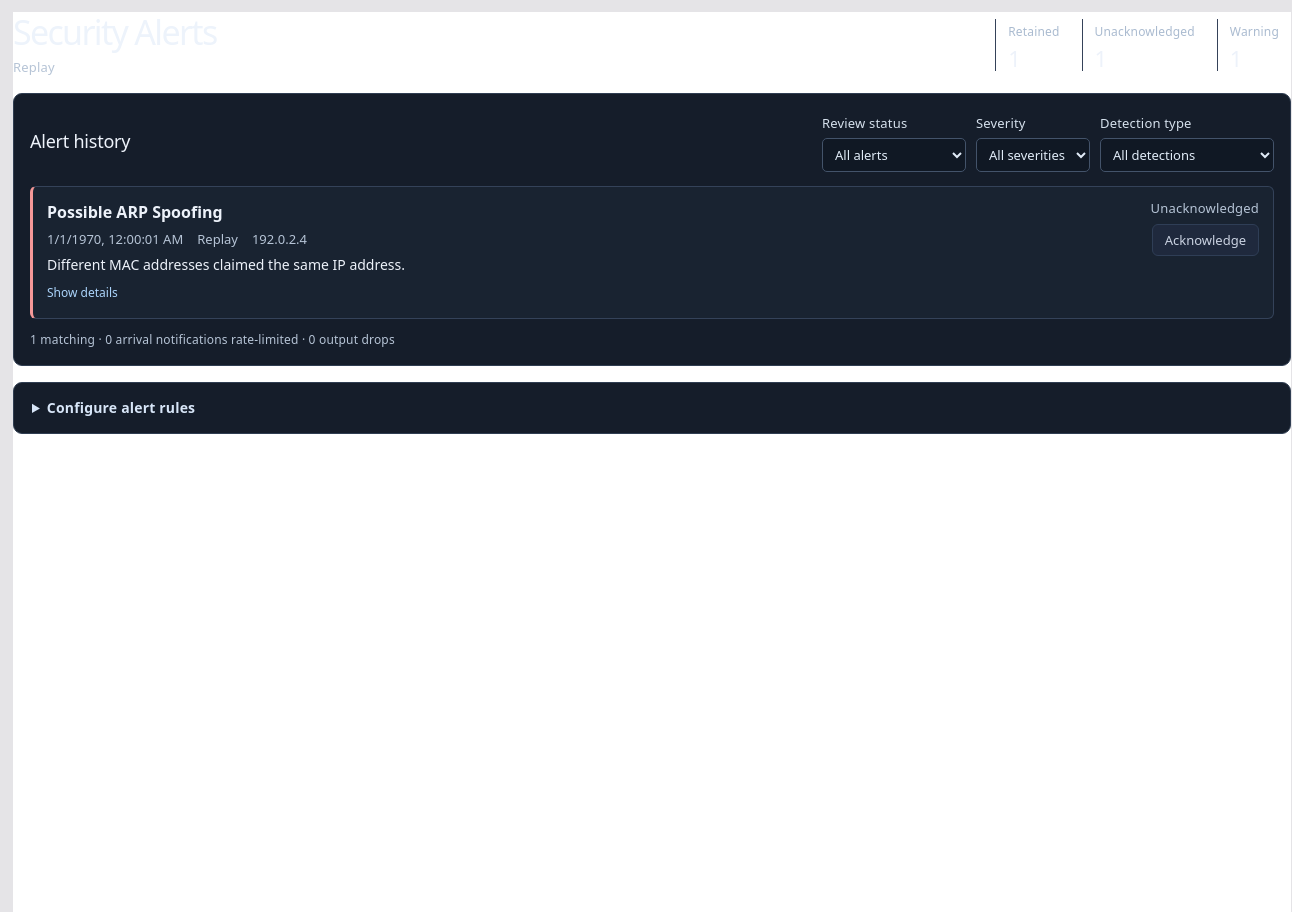
presents Critical with full expandable evidence
Expected: the text "Possible ARP Spoofing" is shown, [47,199,223,226]
Expected: the text "Critical" is not shown
Click the button that starts with "Possible ARP Spoofing" at (135, 212), box [47,199,1137,306]
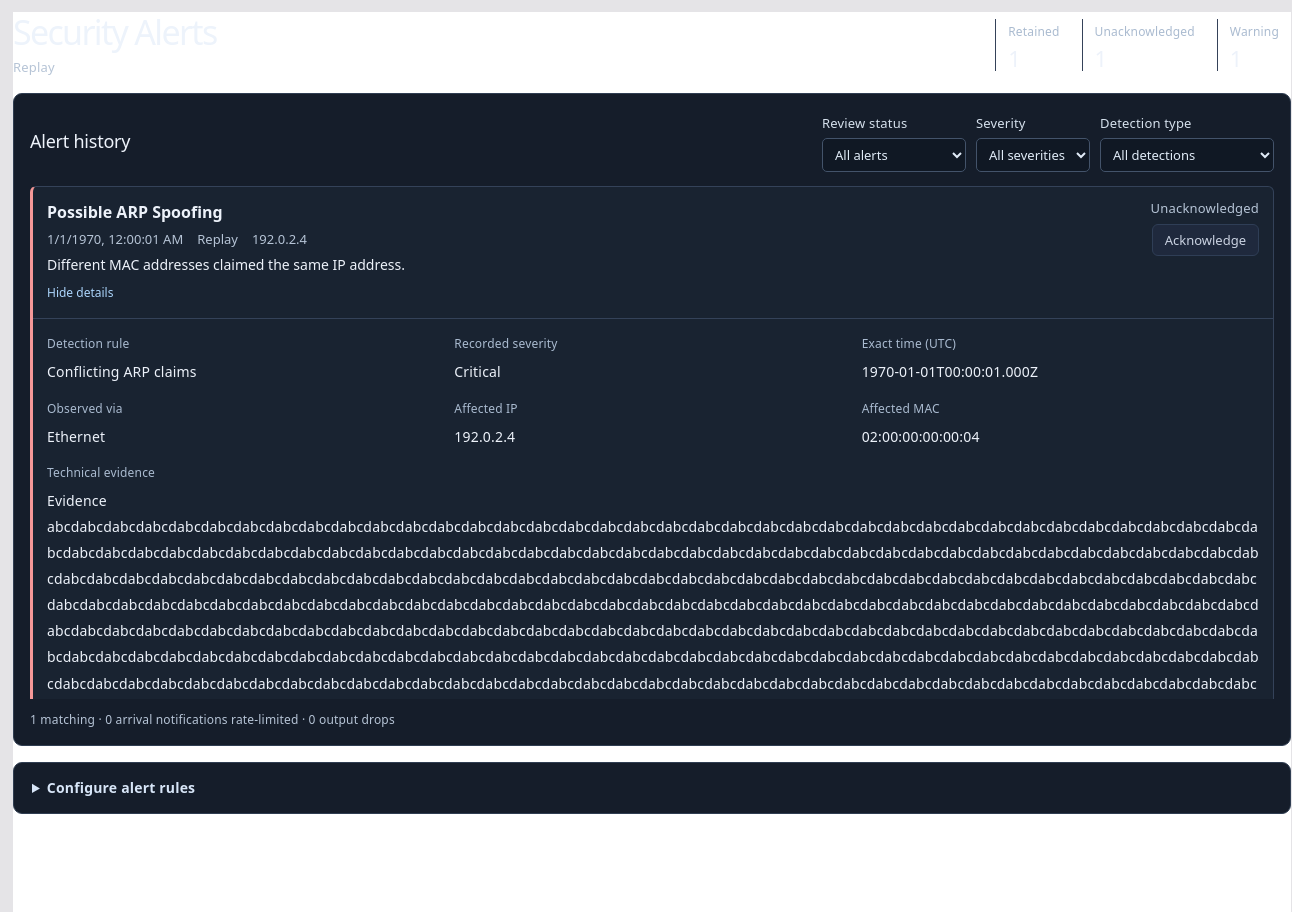
Now the text "Critical" is shown, box [454,362,501,382]
Now the text "Ethernet" is shown, box [47,427,105,446]
